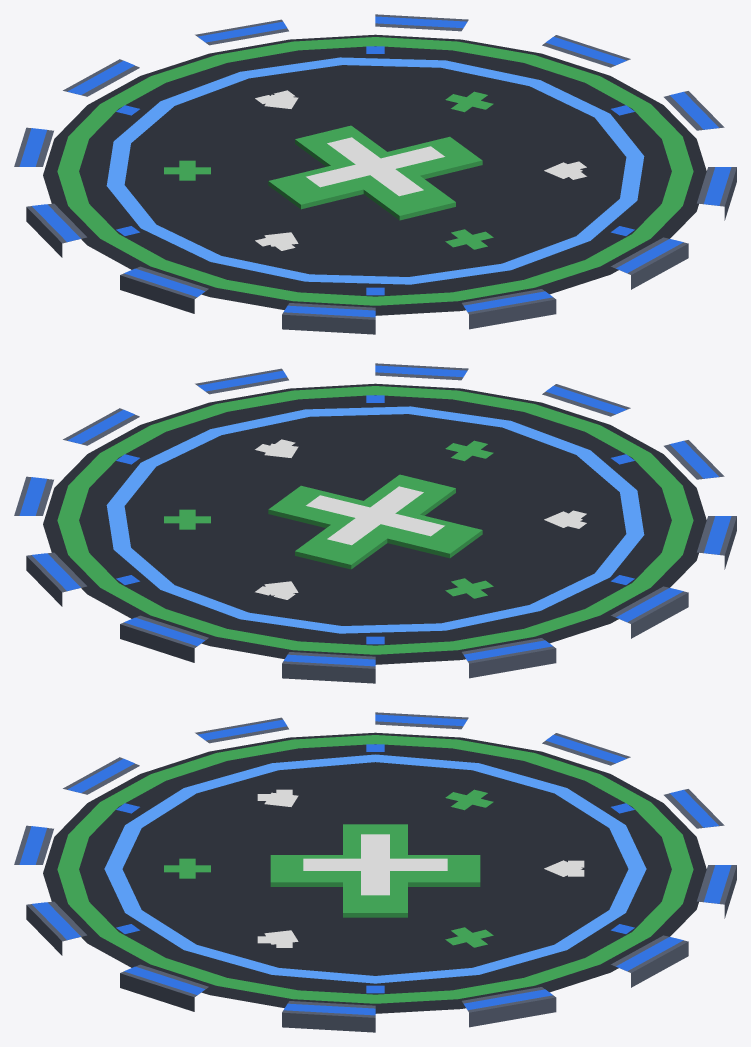
Rendered from medic_super_rare_area.glb.
The picture shows the model from 3 angles, top to bottom: view 1: azimuth 30°, elevation 25°; view 2: azimuth 150°, elevation 25°; view 3: azimuth 270°, elevation 25°; orthographic projection.
Visible parts, largest first — view 1: medic_super_rare_area; view 2: medic_super_rare_area; view 3: medic_super_rare_area.
Boxes of the visible parts, bbox=[...] form: medic_super_rare_area: bbox=[14, 14, 736, 334]; medic_super_rare_area: bbox=[14, 363, 736, 683]; medic_super_rare_area: bbox=[14, 712, 736, 1032].
Size of the model in its own units: 2 by 0.046 by 2.
Materials: 2 (2 with a texture image).
